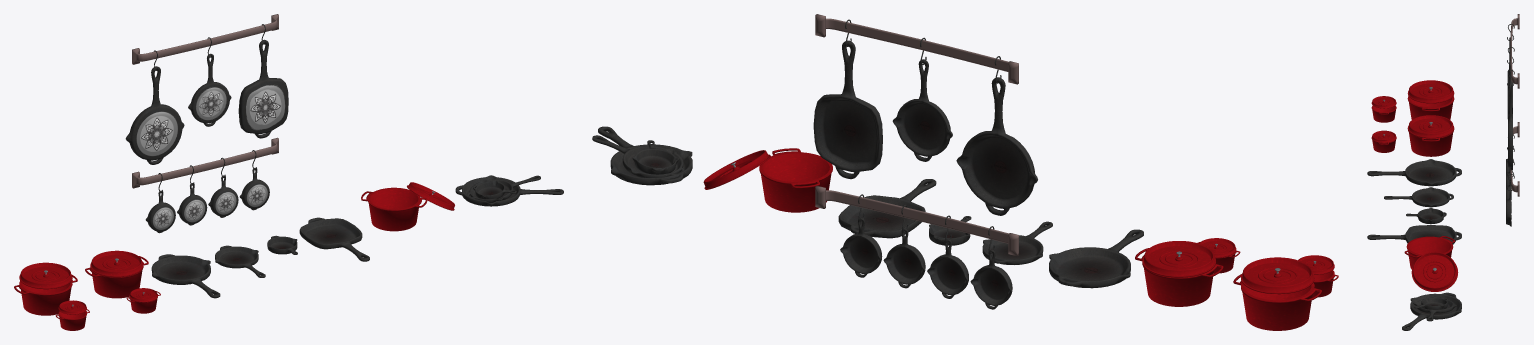
The model's file is Cooking utensils.fbx.
The picture shows the model from 3 angles, left to right: view 1: azimuth 30°, elevation 25°; view 2: azimuth 150°, elevation 25°; view 3: azimuth 270°, elevation 25°; orthographic projection. The views are drawn at different scales.
Visible parts, largest first — view 1: wall-mounted frying pan, Mini wall-mounted frying pan, pot with an open lid, Hot pot.001, Stacked frying pans., Frying pan_004, Frying pan_001, Hot pot, Hot pot_lid, Frying pan_002, Mini hot pot.001, Frying pan_003 (+1 smaller); view 2: wall-mounted frying pan, Mini wall-mounted frying pan, pot with an open lid, Hot pot.001, Stacked frying pans., Frying pan_001, Hot pot, Frying pan_004, Hot pot_lid, Frying pan_002, Mini hot pot.001, Frying pan_003; view 3: pot with an open lid, Hot pot.001, Frying pan_001, Stacked frying pans., wall-mounted frying pan, Hot pot_lid, Frying pan_004, Frying pan_002, Hot pot, Mini wall-mounted frying pan, Mini hot pot.001, Frying pan_003 (+2 smaller).
Part boxes in pixels (left/top/right/bottom): wall-mounted frying pan: left=125, top=14, right=288, bottom=164; Mini wall-mounted frying pan: left=132, top=137, right=278, bottom=233; pot with an open lid: left=361, top=182, right=454, bottom=231; Hot pot.001: left=85, top=250, right=148, bottom=298; Stacked frying pans.: left=455, top=175, right=563, bottom=206; Frying pan_004: left=299, top=217, right=369, bottom=261; Frying pan_001: left=151, top=254, right=220, bottom=298; Hot pot: left=14, top=275, right=77, bottom=315; Hot pot_lid: left=19, top=262, right=72, bottom=289; Frying pan_002: left=215, top=245, right=265, bottom=277; Mini hot pot.001: left=126, top=288, right=160, bottom=313; Frying pan_003: left=267, top=235, right=297, bottom=254; wall-mounted frying pan: left=813, top=14, right=1037, bottom=215; Mini wall-mounted frying pan: left=815, top=185, right=1018, bottom=309; pot with an open lid: left=703, top=148, right=832, bottom=212; Hot pot.001: left=1135, top=241, right=1223, bottom=306; Stacked frying pans.: left=592, top=126, right=692, bottom=185; Frying pan_001: left=1049, top=229, right=1143, bottom=288; Hot pot: left=1233, top=274, right=1321, bottom=330; Frying pan_004: left=838, top=179, right=936, bottom=238; Hot pot_lid: left=1241, top=257, right=1314, bottom=294; Frying pan_002: left=982, top=221, right=1052, bottom=264; Mini hot pot.001: left=1197, top=238, right=1240, bottom=273; Frying pan_003: left=929, top=216, right=971, bottom=245; pot with an open lid: left=1404, top=236, right=1458, bottom=291; Hot pot.001: left=1407, top=115, right=1454, bottom=156; Frying pan_001: left=1367, top=159, right=1461, bottom=186; Stacked frying pans.: left=1402, top=292, right=1461, bottom=330; wall-mounted frying pan: left=1507, top=14, right=1519, bottom=170; Hot pot_lid: left=1407, top=80, right=1454, bottom=103; Frying pan_004: left=1367, top=225, right=1461, bottom=244; Frying pan_002: left=1384, top=187, right=1453, bottom=207; Hot pot: left=1407, top=96, right=1454, bottom=119; Mini wall-mounted frying pan: left=1506, top=122, right=1519, bottom=226; Mini hot pot.001: left=1371, top=130, right=1396, bottom=152; Frying pan_003: left=1406, top=207, right=1446, bottom=224.
Size of the model in its own units: 2 by 0.6731 by 0.5685.
